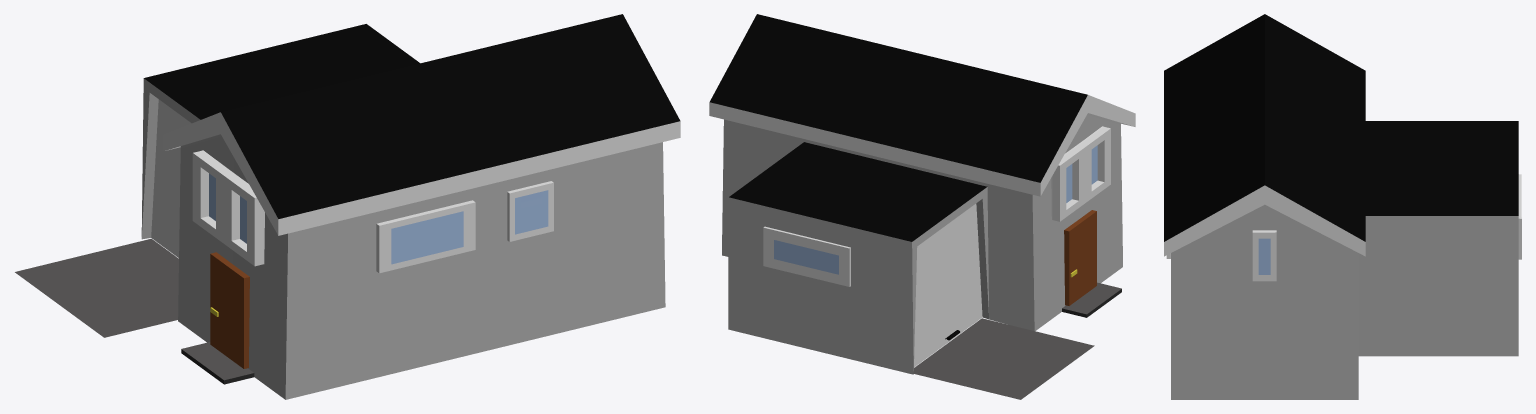
File: house&garage.fbx
The picture shows the model from 3 angles, left to right: view 1: azimuth 30°, elevation 25°; view 2: azimuth 150°, elevation 25°; view 3: azimuth 270°, elevation 25°; orthographic projection. The views are drawn at different scales.
Visible parts, largest first — view 1: Cube, Plane, Cube.001; view 2: Cube, Plane, Cube.001; view 3: Cube.
Part boxes in pixels (x1=…): Cube: x1=141, y1=14, x2=680, y2=399; Plane: x1=15, y1=238, x2=254, y2=384; Cube.001: x1=210, y1=252, x2=249, y2=368; Cube: x1=709, y1=14, x2=1135, y2=374; Plane: x1=913, y1=282, x2=1121, y2=399; Cube.001: x1=1064, y1=210, x2=1096, y2=305; Cube: x1=1164, y1=14, x2=1521, y2=399.
Bounding box in the file's own units: 9.02 × 4.67 × 6.89.
